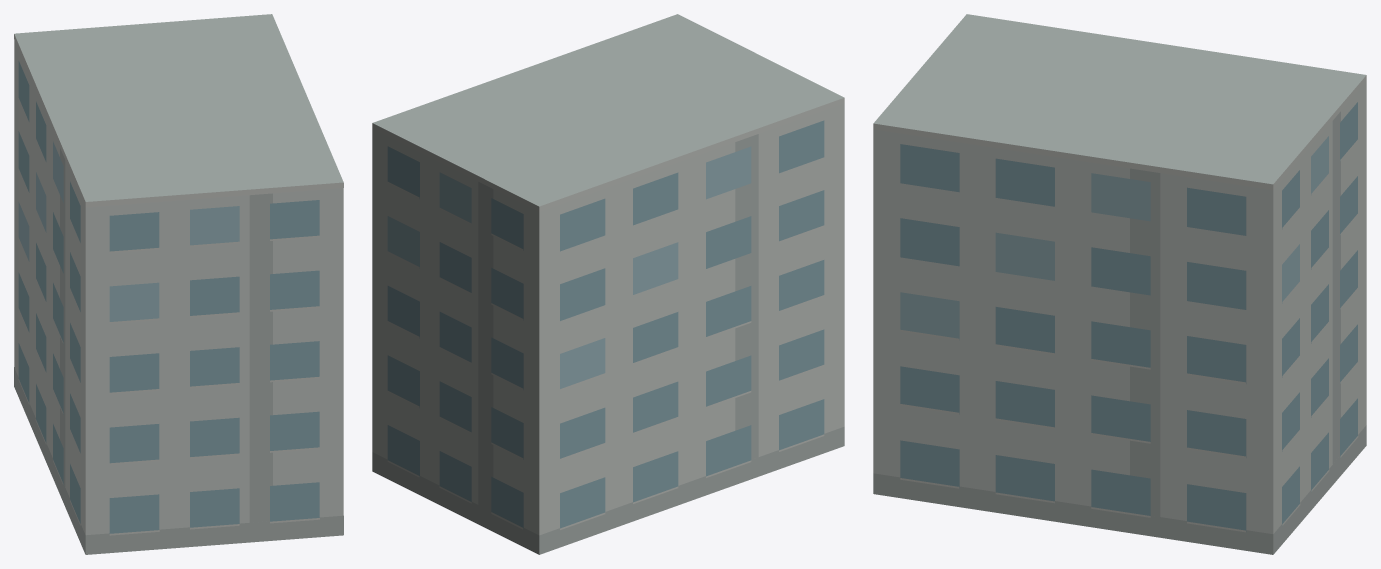
File: residential-ffd671bf-1e98-482c-b83e-8422df99e1df.glb
The picture shows the model from 3 angles, left to right: view 1: azimuth 30°, elevation 25°; view 2: azimuth 150°, elevation 25°; view 3: azimuth 270°, elevation 25°; orthographic projection. The views are drawn at different scales.
Parts seen in each view (by area): view 1: residential-ffd671bf-1e98-482c-b83e-8422df99e1df.tmp; view 2: residential-ffd671bf-1e98-482c-b83e-8422df99e1df.tmp; view 3: residential-ffd671bf-1e98-482c-b83e-8422df99e1df.tmp.
Boxes of the visible parts, x1=… form: residential-ffd671bf-1e98-482c-b83e-8422df99e1df.tmp: x1=14, y1=14, x2=343, y2=554; residential-ffd671bf-1e98-482c-b83e-8422df99e1df.tmp: x1=372, y1=14, x2=844, y2=554; residential-ffd671bf-1e98-482c-b83e-8422df99e1df.tmp: x1=873, y1=14, x2=1366, y2=554.
Size of the model in its own units: 15.05 by 15.25 by 18.41.
